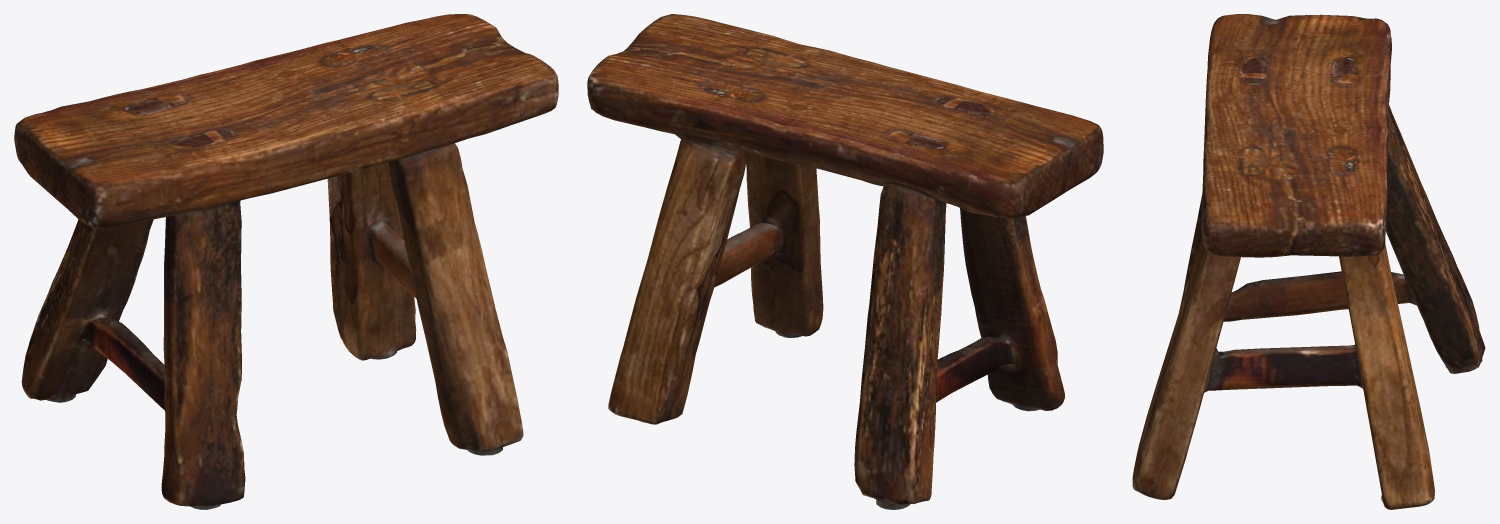
The model's file is wooden_stool_02.glb.
3 views of the same model, side by side, from view 1: azimuth 30°, elevation 25°; view 2: azimuth 150°, elevation 25°; view 3: azimuth 270°, elevation 25° (orthographic). The views are drawn at different scales.
Parts seen in each view (by area): view 1: wooden_stool_02; view 2: wooden_stool_02; view 3: wooden_stool_02.
Part boxes in pixels (<box>): wooden_stool_02: <box>14,14,558,509</box>; wooden_stool_02: <box>587,14,1103,509</box>; wooden_stool_02: <box>1132,14,1485,509</box>.
Size of the model in its own units: 0.2652 by 0.1819 by 0.1831.
1 material, 1 textured.
